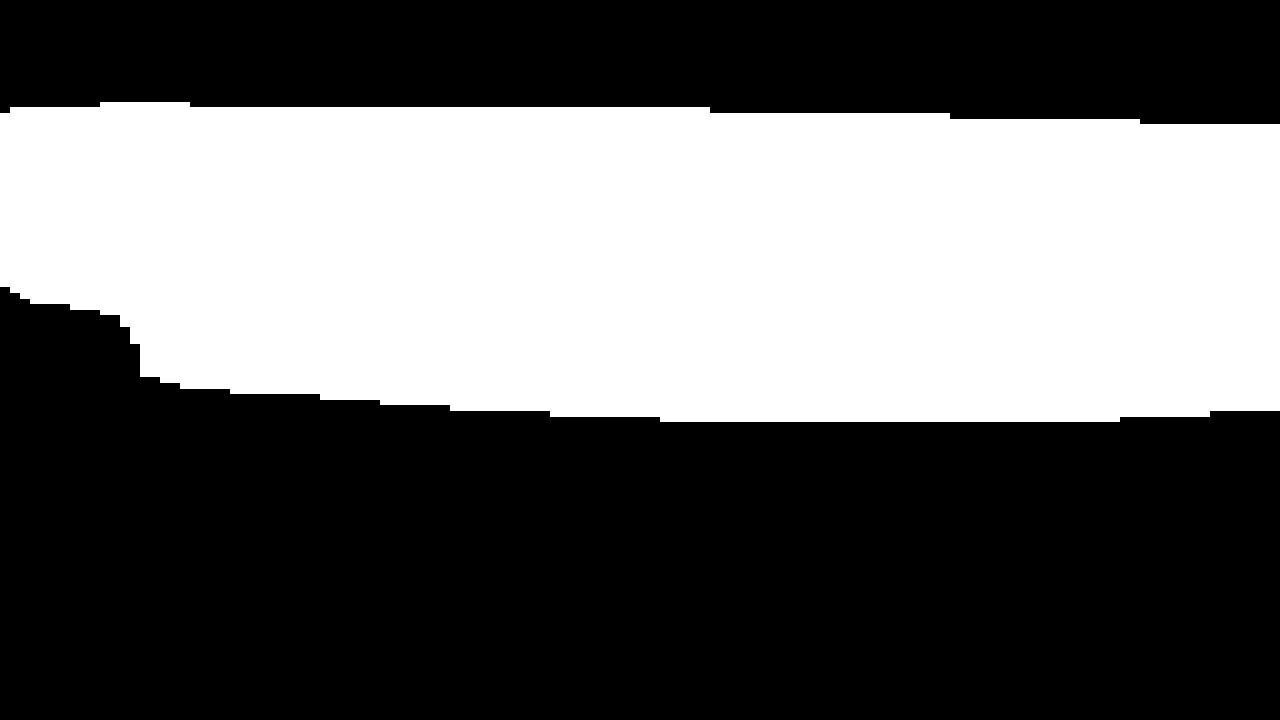Turbine: (11, 88, 1278, 442)
